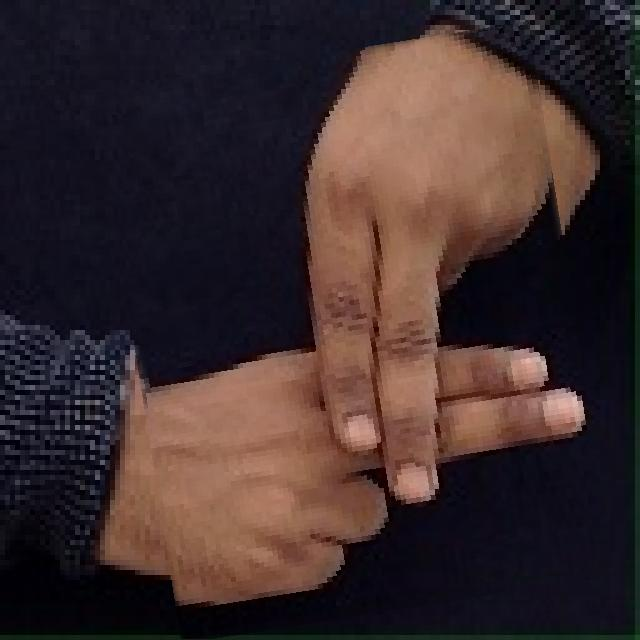F: (115, 37, 596, 628)
